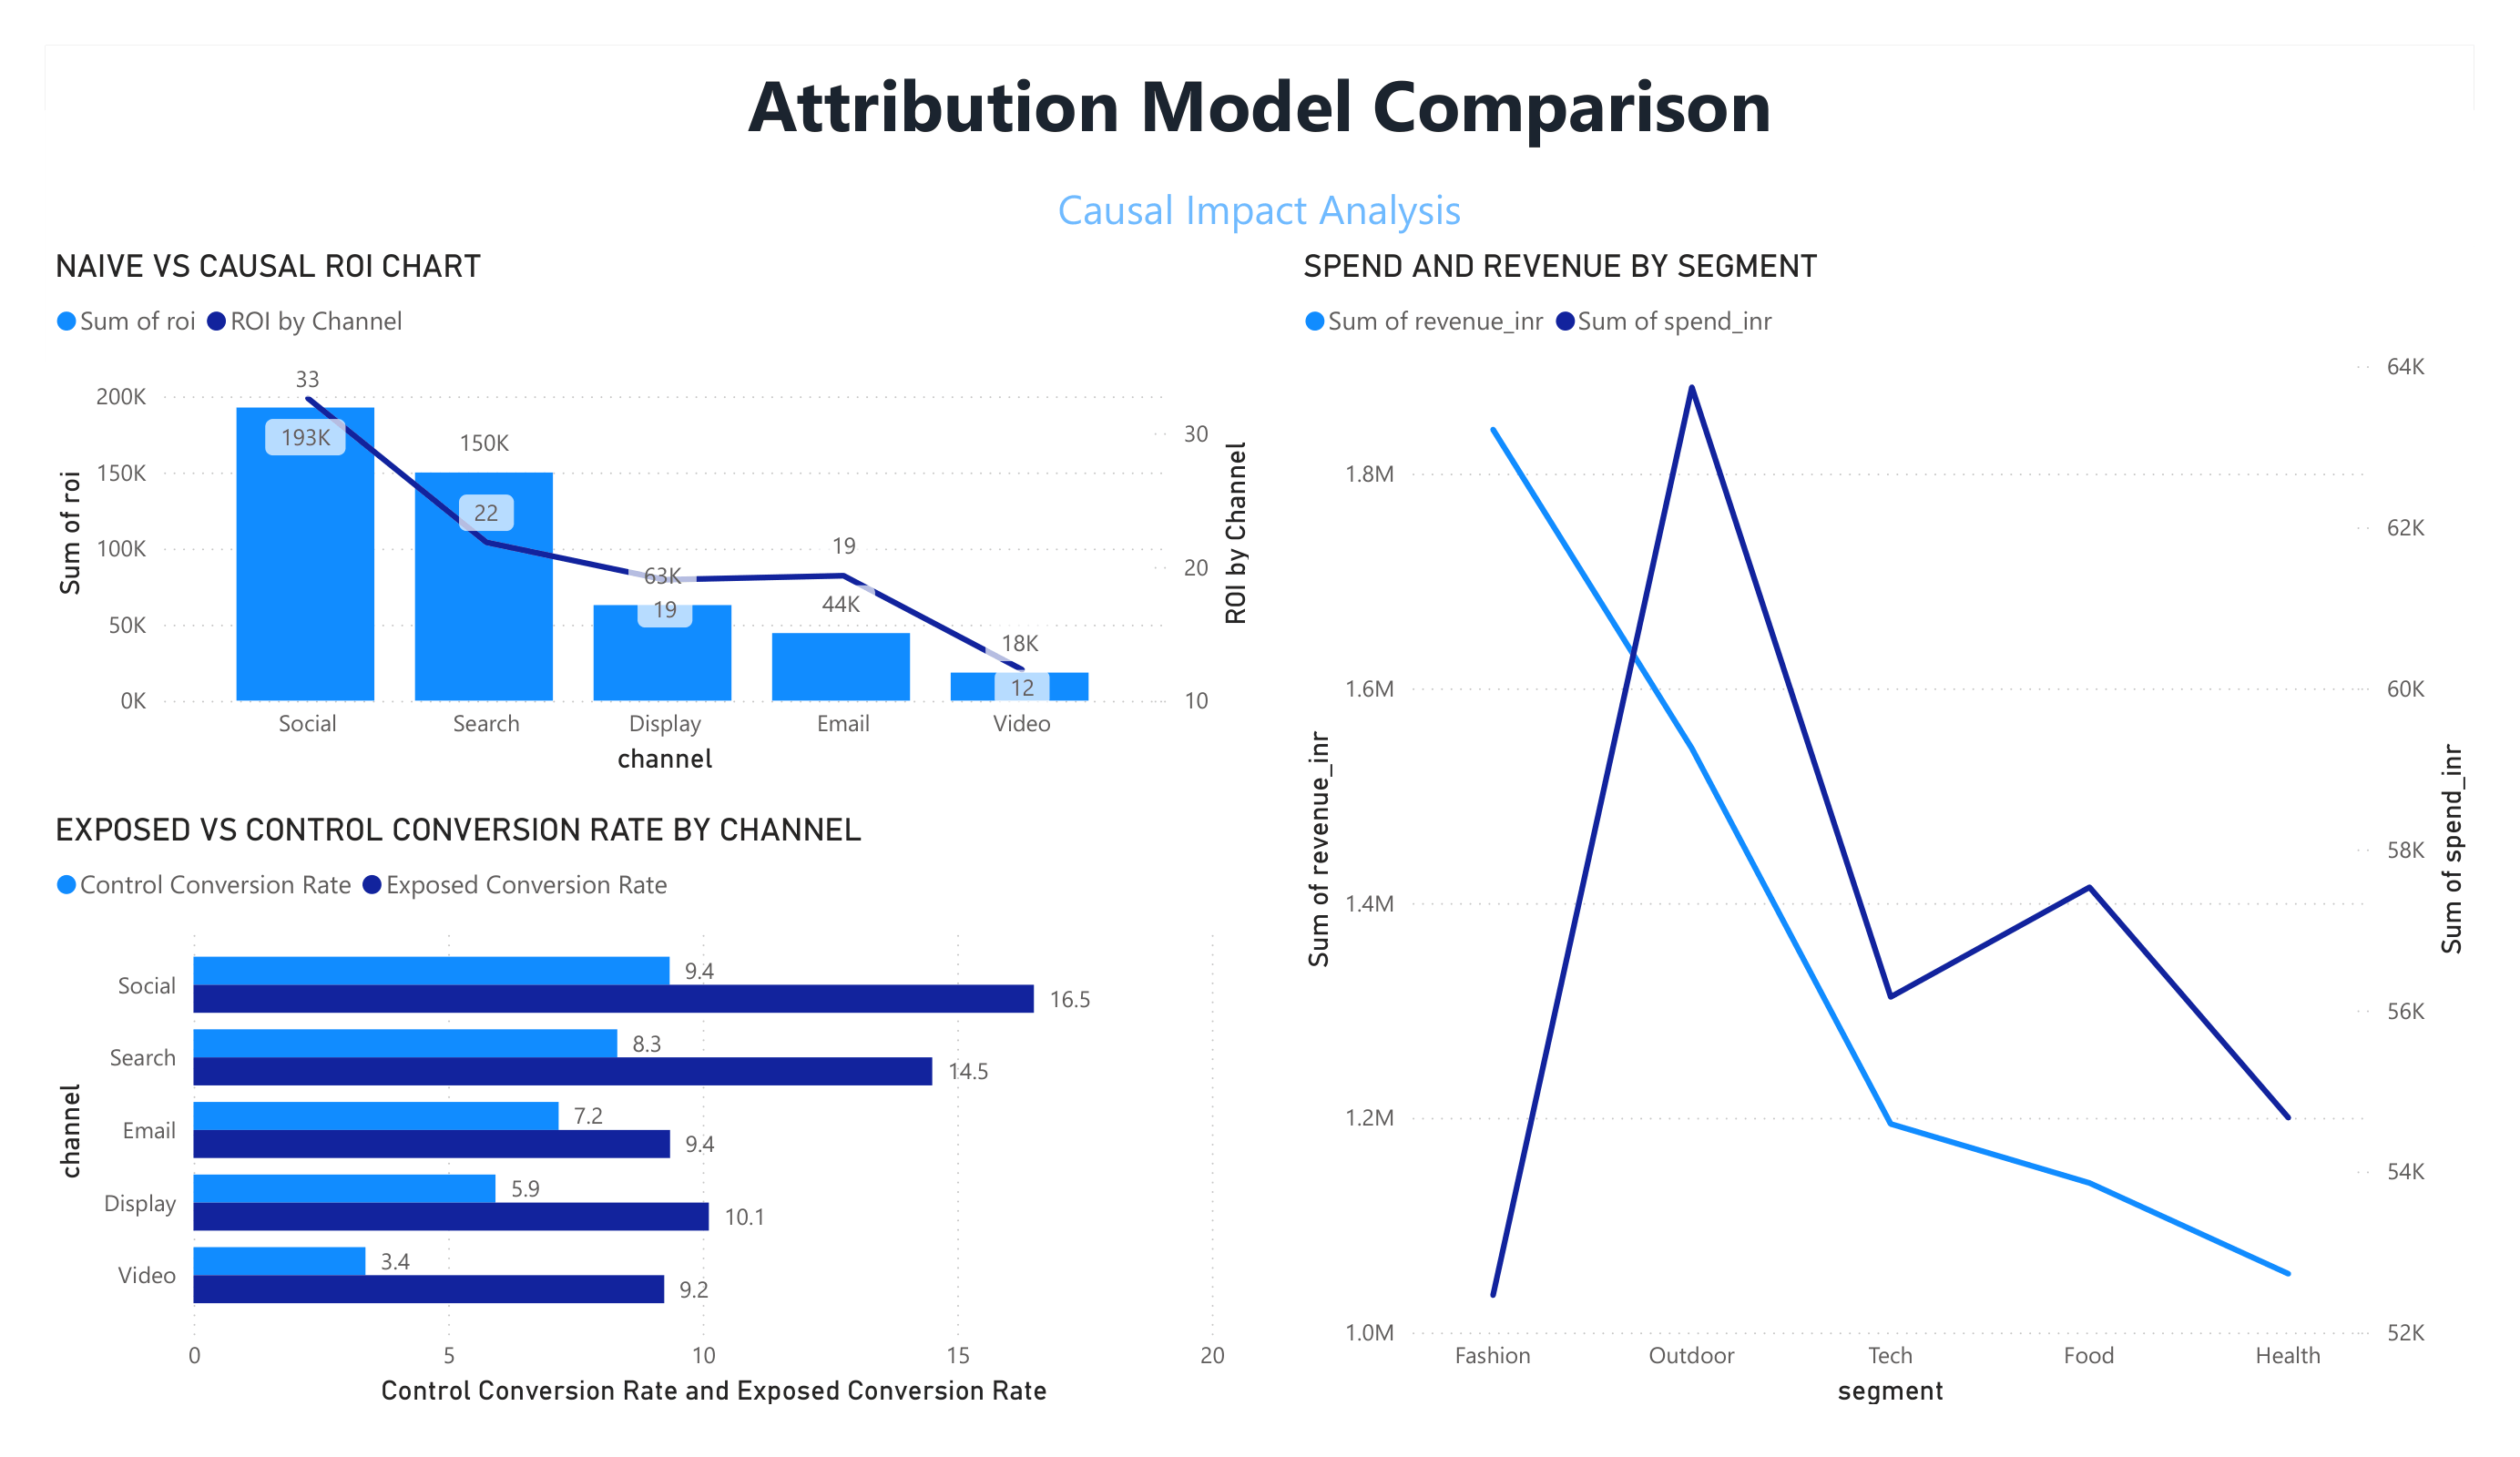

Layout of this report page (visuals, bound fields, positions):
{"tool":"powerbi","page":{"name":"Attribution Model Comparison","canvas":[1280,720],"ordinal":3},"visuals":[{"type":"textbox","box":[0,0,1280.5,66.3],"z":0},{"type":"textbox","box":[0,66.3,1280.5,39.8],"z":1000},{"type":"lineClusteredColumnComboChart","title":"NAIVE VS CAUSAL ROI CHART","fields":{"Category":["Marketing Campaigns ROI Dataset.channel"],"Y":["Sum(Marketing Campaigns ROI Dataset.roi)"],"Y2":["Marketing Campaigns ROI Dataset.ROI by Channel"]},"box":[0,106,639.4,281.6],"z":2000},{"type":"clusteredBarChart","title":"EXPOSED VS CONTROL CONVERSION RATE BY CHANNEL","fields":{"Category":["Marketing Campaigns ROI Dataset.channel"],"Y":["Marketing Campaigns ROI Dataset.Control Conversion Rate","Marketing Campaigns ROI Dataset.Exposed Conversion Rate"]},"box":[0,402.5,639.4,318],"z":2001},{"type":"lineChart","title":"SPEND AND REVENUE BY SEGMENT","fields":{"Category":["Marketing Campaigns ROI Dataset.segment"],"Y":["Sum(Marketing Campaigns ROI Dataset.revenue_inr)"],"Y2":["Sum(Marketing Campaigns ROI Dataset.spend_inr)"]},"box":[657.6,106,622.8,614.6],"z":2002}]}

Visuals, with their boxes on the page's 1280x720 design canvas (x1, y1, x2, y2). These are canvas units, not pixel positions in the 2520x1457 screenshot, which may show the page scaled, cropped or inside an application window:
textbox: Rect(0, 0, 1280, 66)
textbox: Rect(0, 66, 1280, 106)
"NAIVE VS CAUSAL ROI CHART" lineClusteredColumnComboChart: Rect(0, 106, 639, 388)
"EXPOSED VS CONTROL CONVERSION RATE BY CHANNEL" clusteredBarChart: Rect(0, 402, 639, 720)
"SPEND AND REVENUE BY SEGMENT" lineChart: Rect(658, 106, 1280, 721)
